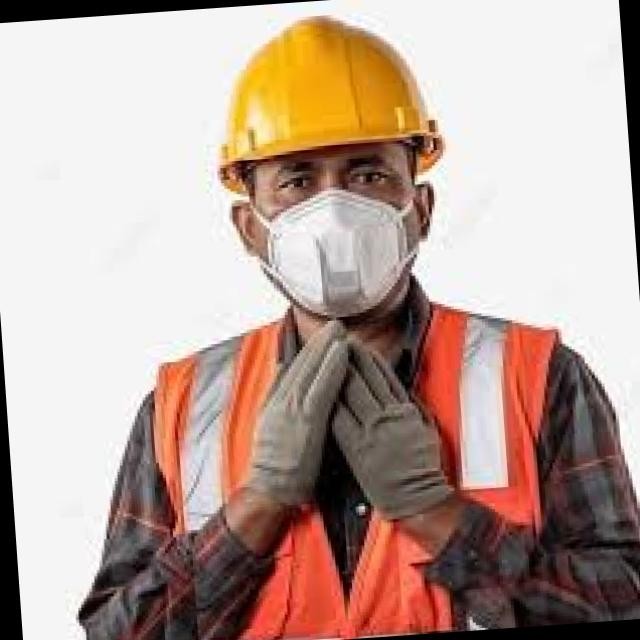gloved: (321, 329, 452, 522), (234, 320, 352, 501)
